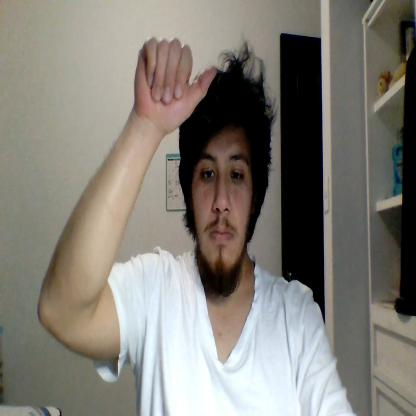A: (135, 38, 216, 129)
